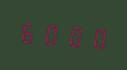six: (18, 16, 39, 47)
zero: (62, 19, 83, 51), (84, 21, 105, 53), (40, 18, 61, 49)
